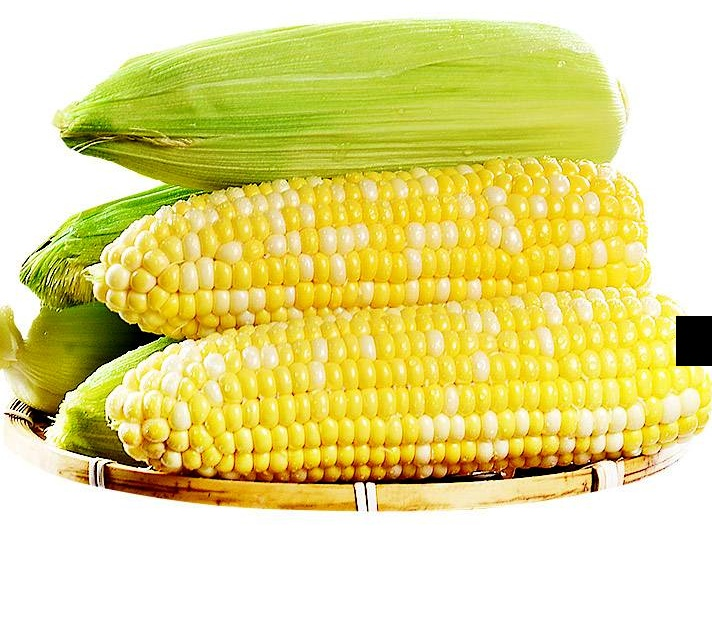corn: (91, 157, 650, 339), (129, 303, 707, 465)
corn_plant: (60, 21, 639, 166)
